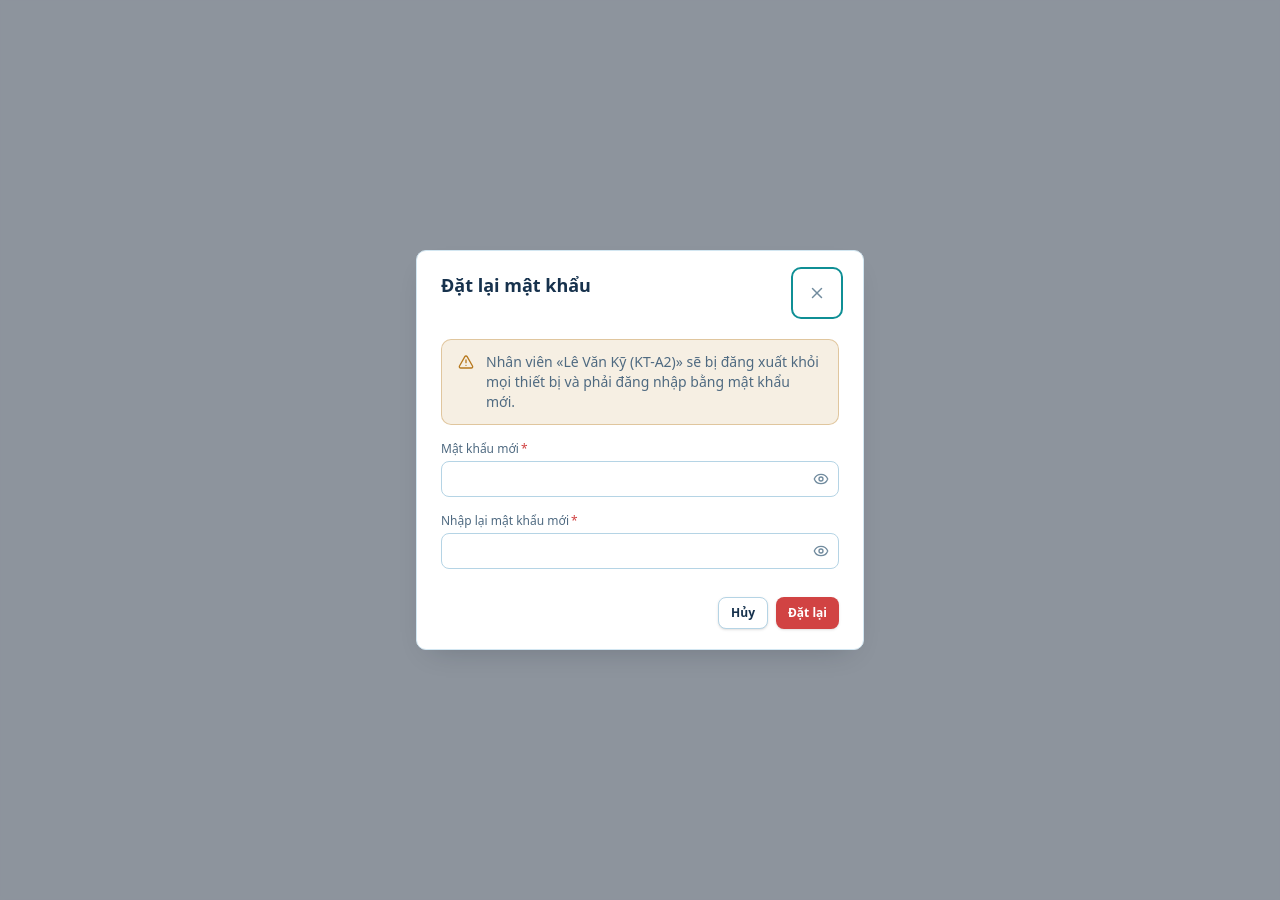
Test: ResetPasswordDialog › shows a backend password error under its field and stays open
Type "Dat-lai-moi-1" into the password field labelled "Mật khẩu mới*".
click(640, 479); type("Dat-lai-moi-1")  # box [441,461,839,497]
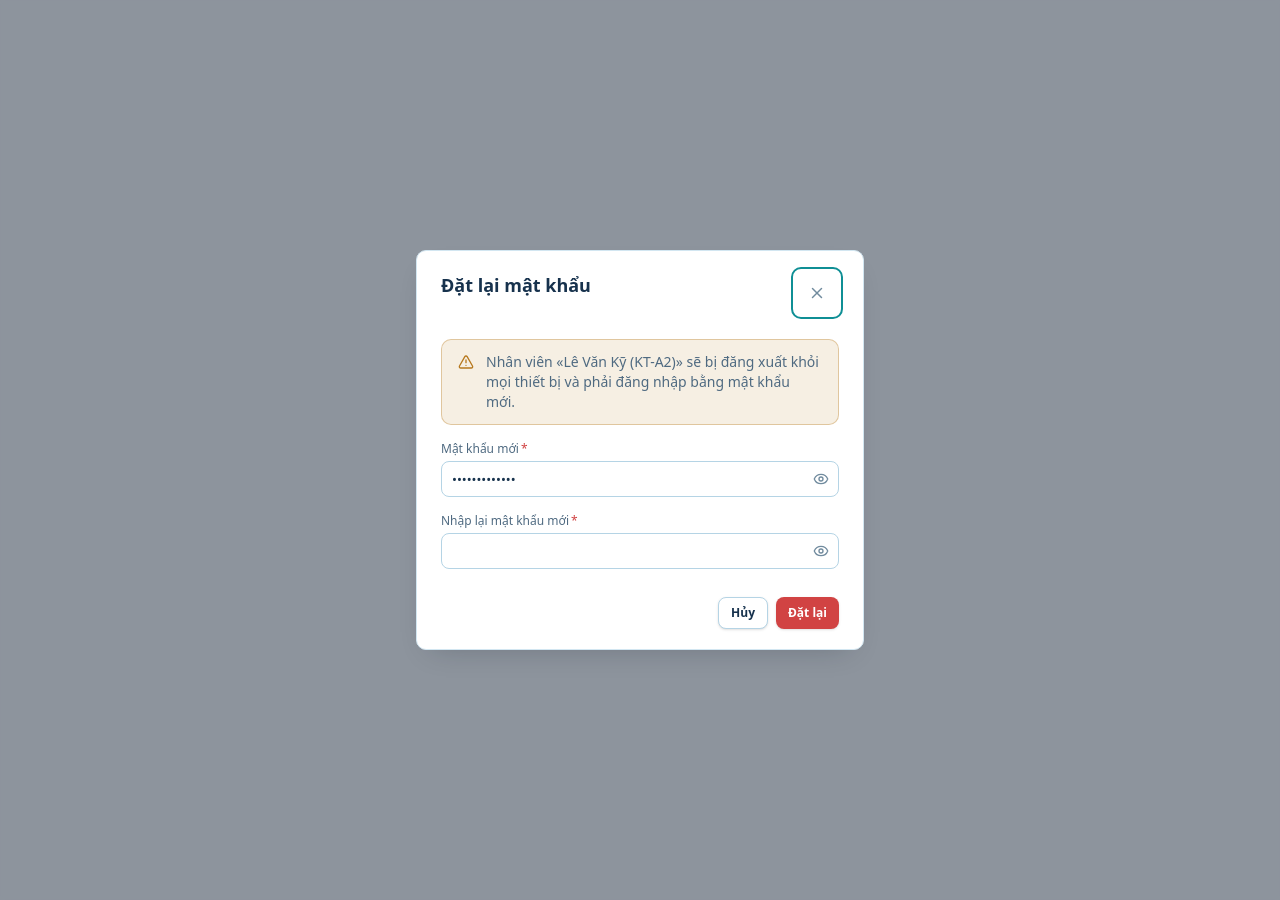
Type "Dat-lai-moi-1" into the password field labelled "Nhập lại mật khẩu mới*".
click(640, 551); type("Dat-lai-moi-1")  # box [441,533,839,569]
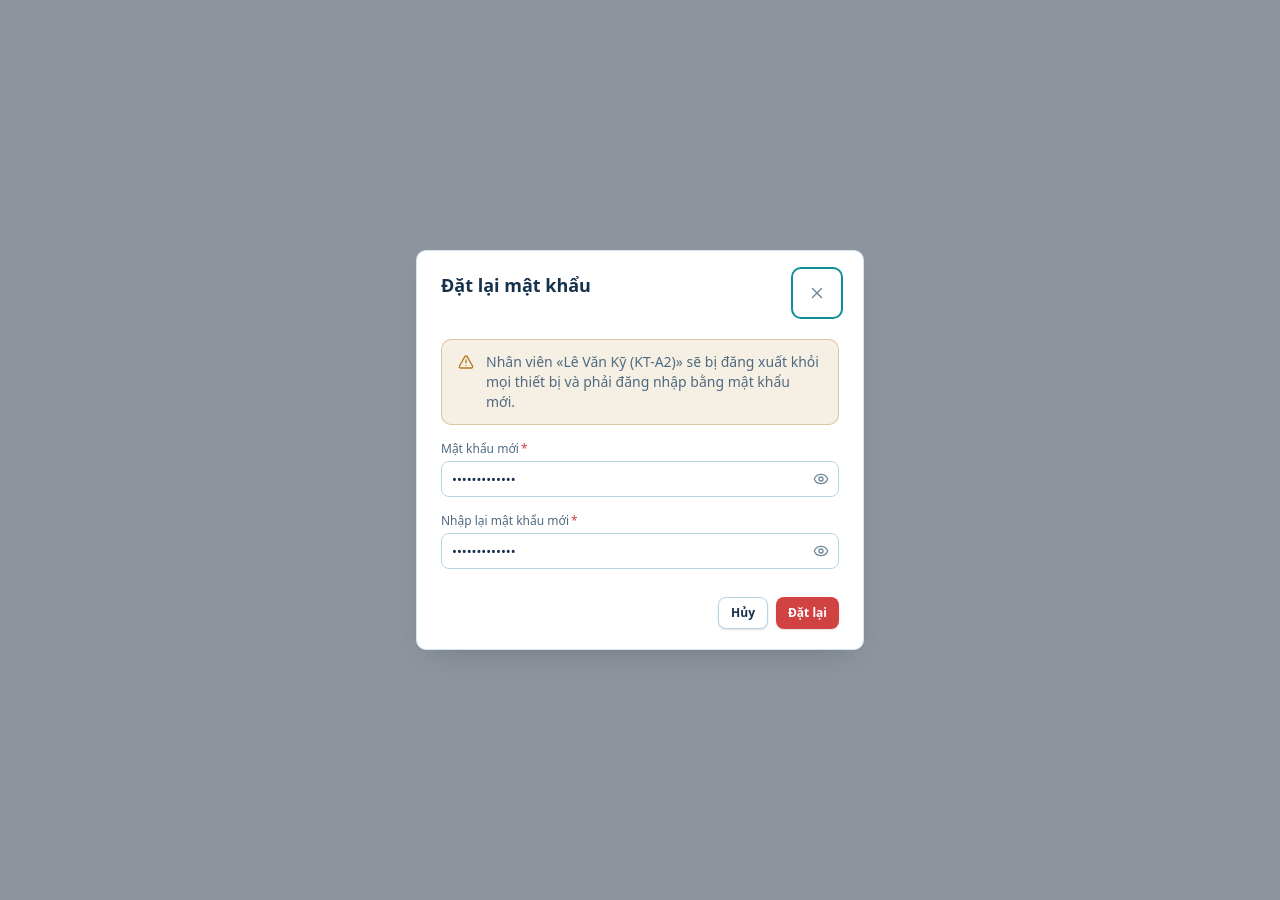
Click the button "Đặt lại".
click(808, 613)  # box [776,597,839,629]
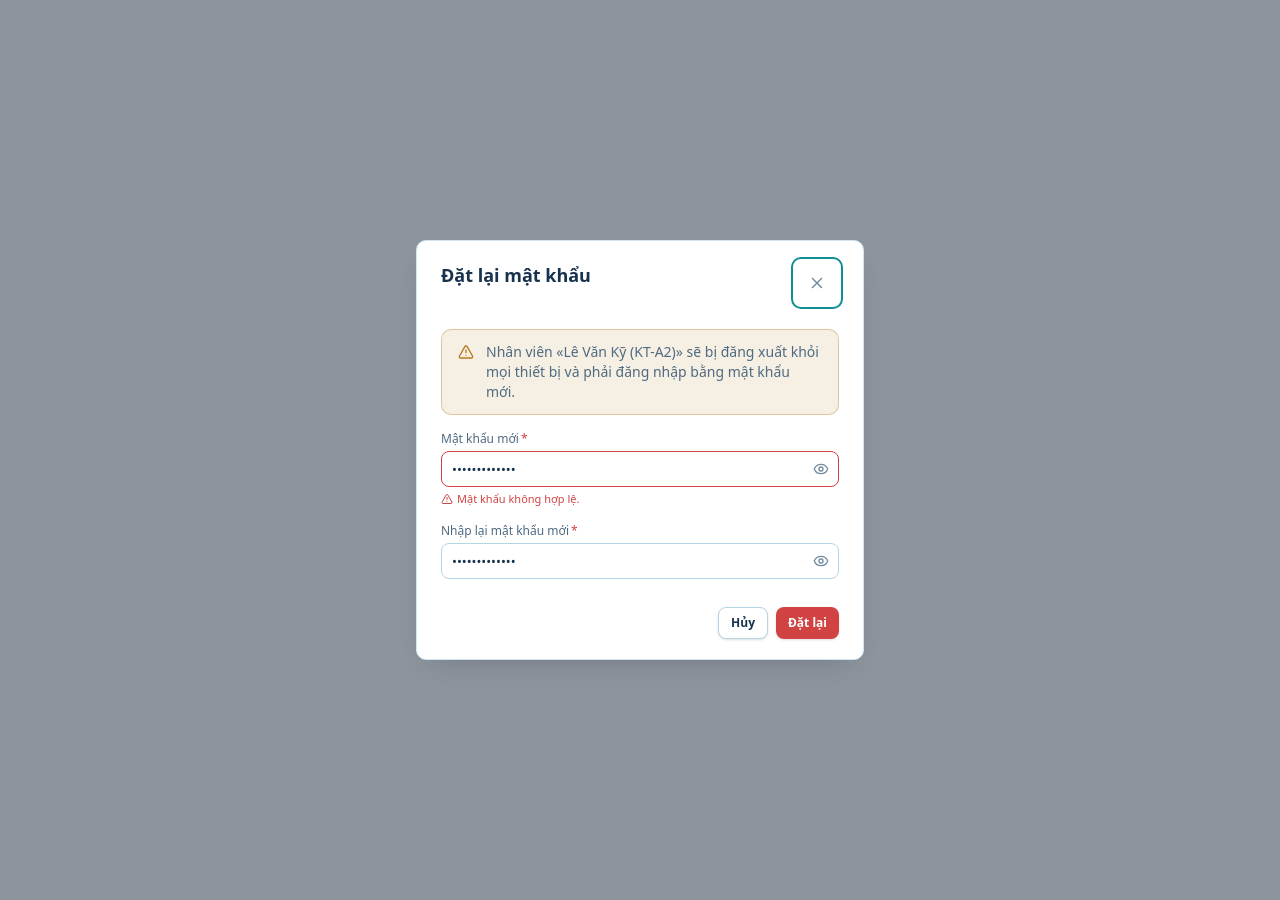
Now the text "Mật khẩu không hợp lệ." is shown, box [441,491,579,506]
